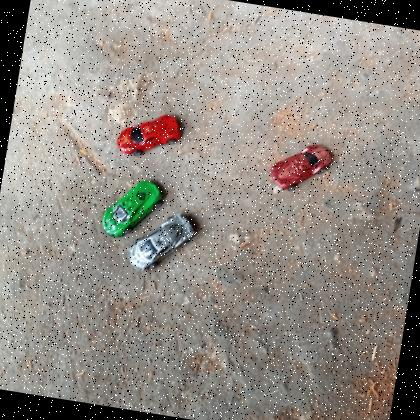Car: (124, 203, 200, 281), (98, 173, 166, 244), (267, 136, 337, 198), (116, 106, 182, 162)
